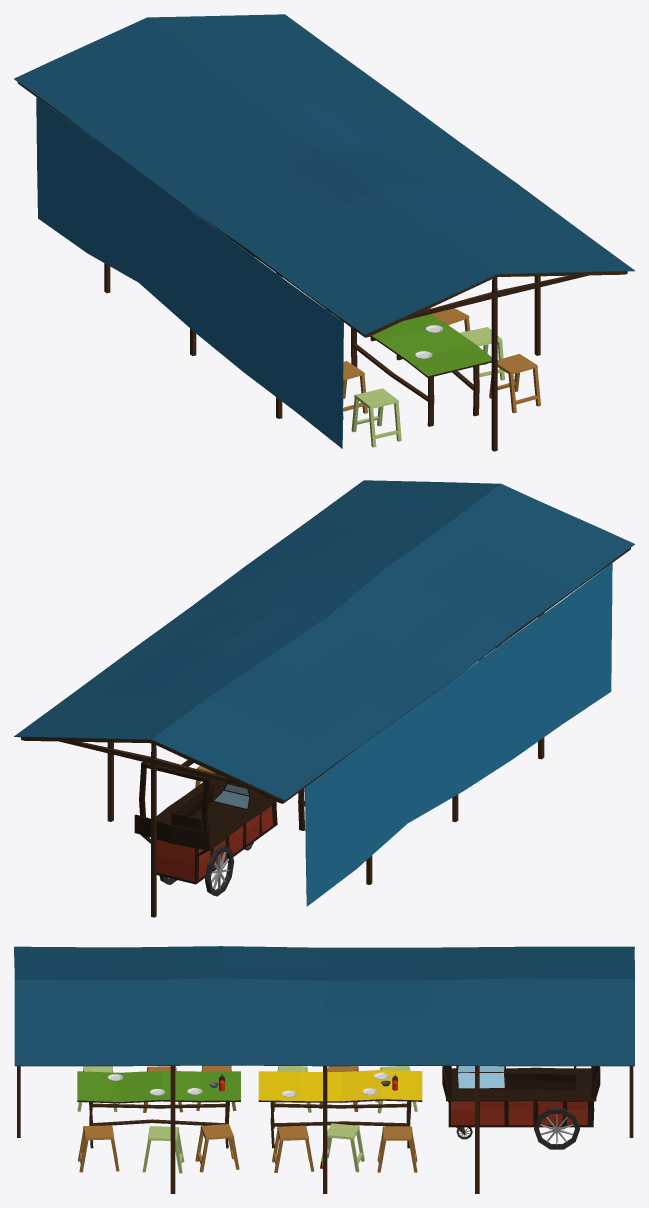
Rendered from gerobak lele.fbx.
3 renders of one model, top to bottom at view 1: azimuth 30°, elevation 25°; view 2: azimuth 150°, elevation 25°; view 3: azimuth 270°, elevation 25°, orthographic. The views are drawn at different scales.
Visible parts, largest first — view 1: Cube, Cube.017; view 2: Cube, Cube.017; view 3: Cube.
Part boxes in pixels (x1,y1,x2,y2): Cube: (14, 14, 634, 451); Cube.017: (36, 97, 343, 448); Cube: (14, 480, 634, 917); Cube.017: (305, 563, 612, 906); Cube: (14, 946, 634, 1193).
Bounding box in the file's own units: 1880 × 1194 × 4196.
